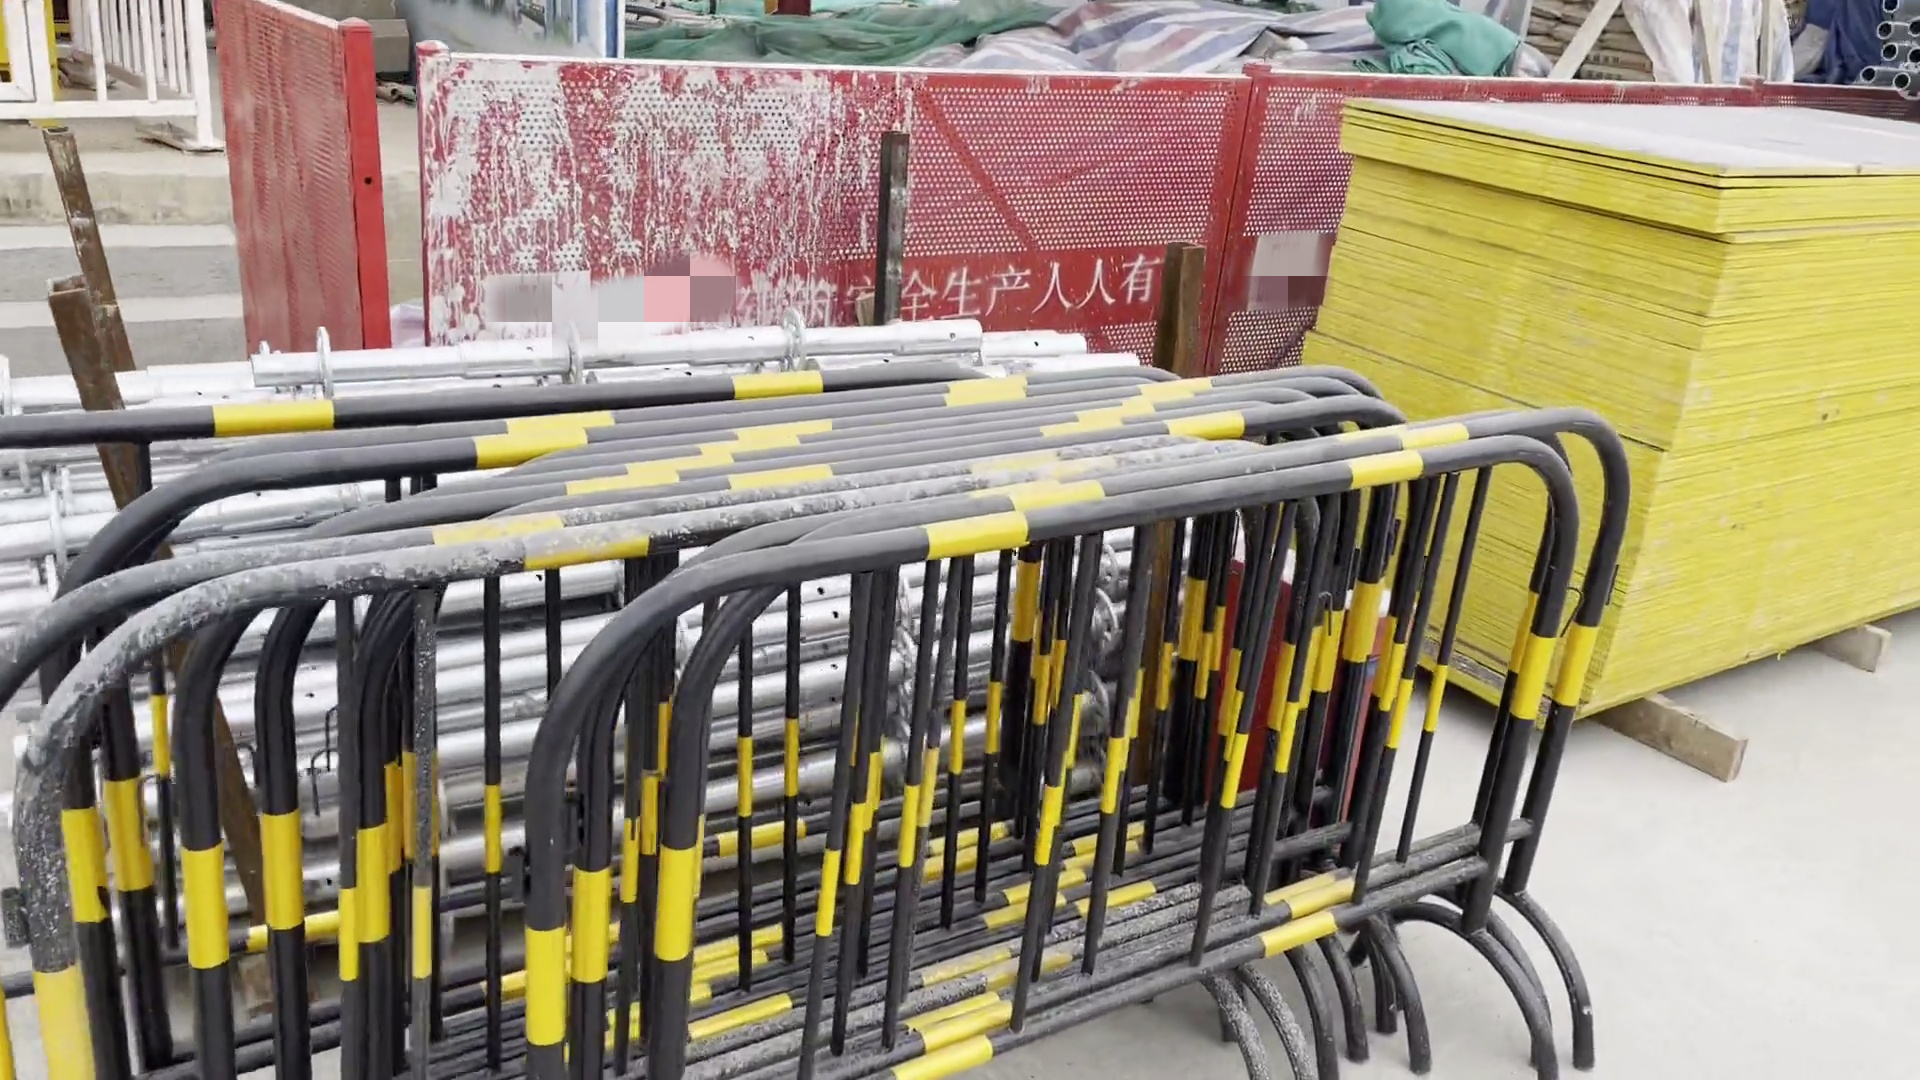board: (1280, 88, 1920, 702)
slogan: (847, 261, 1170, 327)
